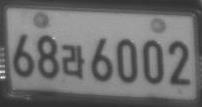0: (115, 38, 139, 83), (142, 39, 164, 84)
2: (167, 40, 191, 85)
6: (89, 38, 114, 81), (12, 32, 35, 78)
8: (36, 34, 60, 78)
라: (61, 43, 85, 79)
